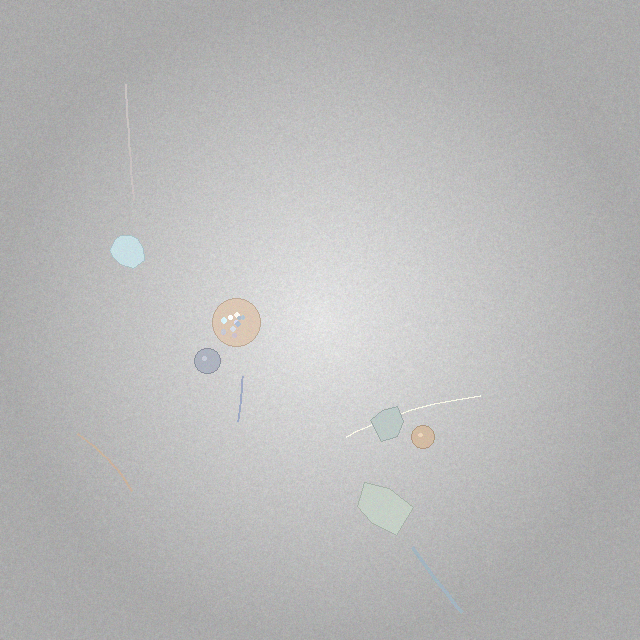fiber: (344, 394, 483, 440), (409, 545, 465, 616), (74, 431, 134, 493), (122, 82, 136, 202), (235, 374, 245, 425)
foam: (213, 299, 260, 346)
fragment: (357, 482, 414, 536), (109, 235, 144, 269), (370, 406, 403, 441)
pellet: (195, 348, 220, 374), (411, 426, 434, 448)
